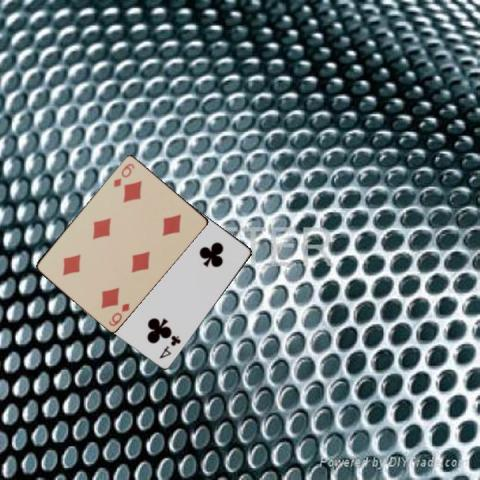4c: (157, 332, 182, 360)
6d: (111, 160, 136, 189), (105, 300, 131, 327)
